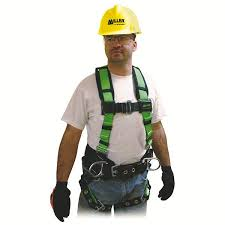hard hat: (97, 4, 142, 35)
